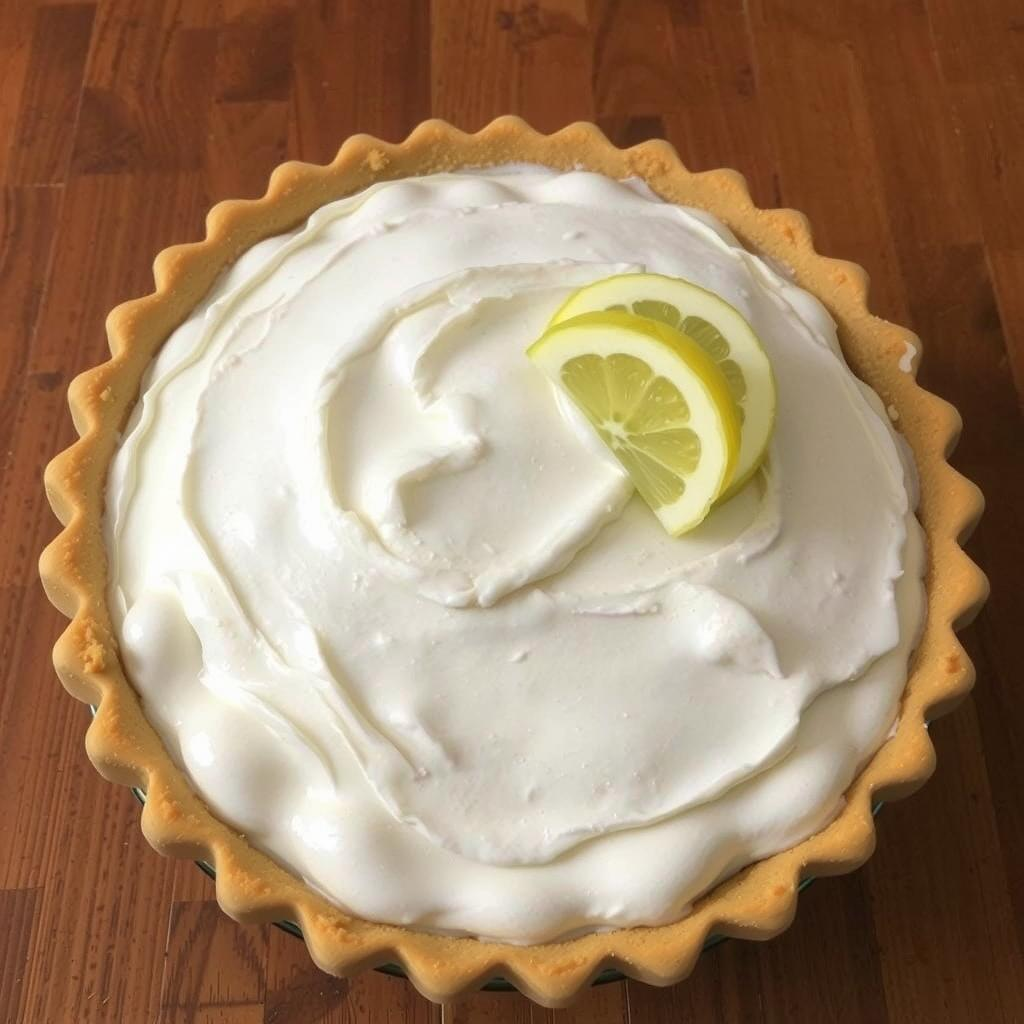pie: (37, 111, 999, 1020)
